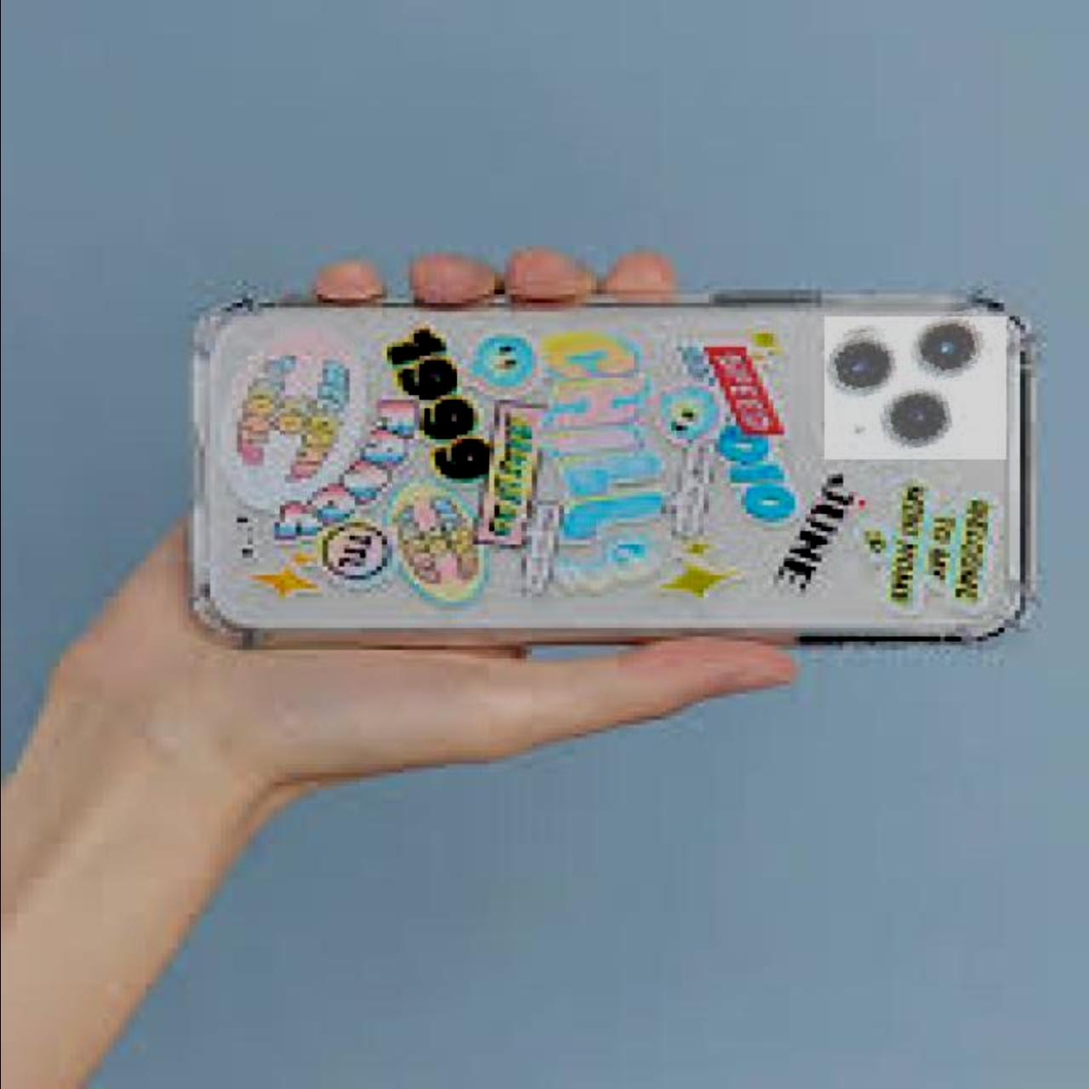phone: (168, 278, 1041, 659)
